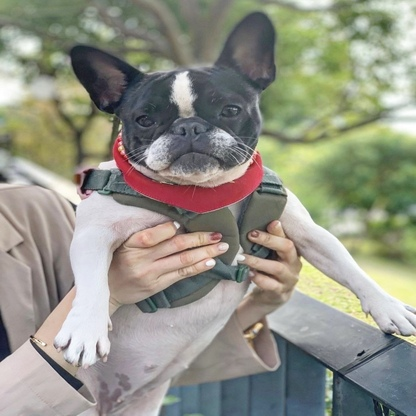bulldog: (52, 10, 415, 370)
